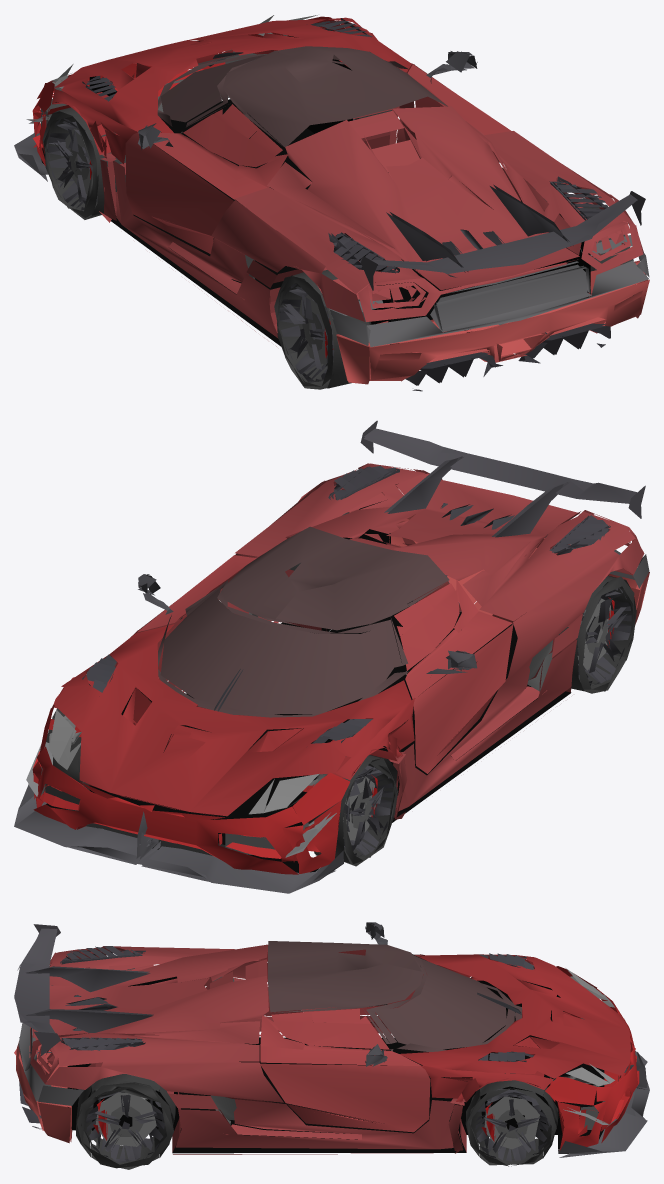
Rendered from agera-far.glb.
3 views of the same model, one above another, from view 1: azimuth 30°, elevation 25°; view 2: azimuth 150°, elevation 25°; view 3: azimuth 270°, elevation 25° (orthographic). The views are drawn at different scales.
Visible parts, largest first — view 1: far_agera; view 2: far_agera; view 3: far_agera.
Part boxes in pixels (<box>): far_agera: <box>14,15,649,391</box>; far_agera: <box>14,420,649,893</box>; far_agera: <box>14,922,649,1169</box>.
Bounding box in the file's own units: 2.16 × 1.13 × 4.3.
